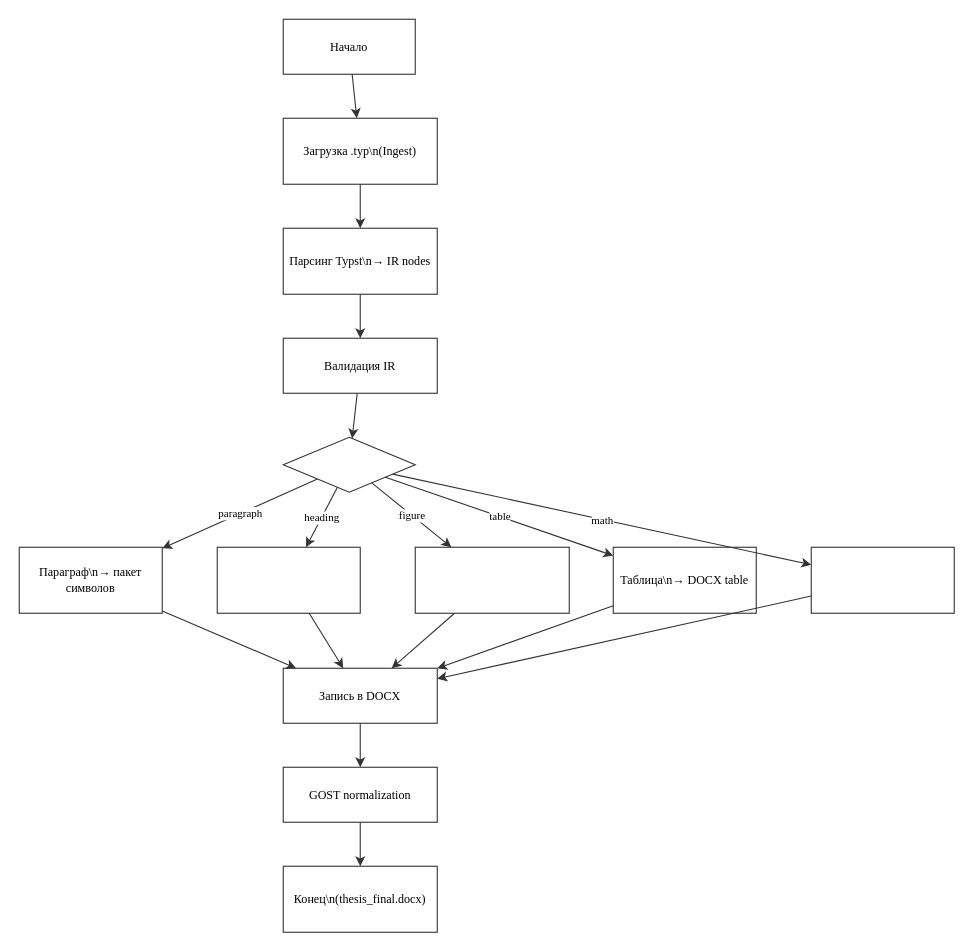
Image size: 974x952. Some labels were removed from this diagram. Here are the shapes that lost their labels. From the top down, the centre of each, then its label:
(x=348, y=464): Тип узла?
(x=288, y=579): Заголовок\n→ Heading стиль
(x=491, y=579): Рисунок\n→ Подпись + картинка
(x=882, y=579): Формула\n→ MathML/OMML
